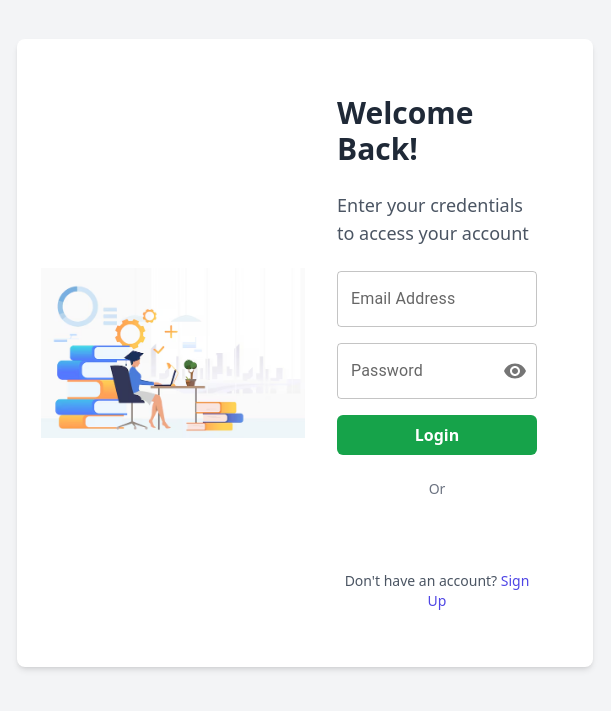
it: LoginForm Component › Form Validation › shows validation error for invalid email format
The width and height of the screenshot is (611, 711).
Type "invalid-email" into the field labelled "Email Address" at [437, 299], box left=337, top=271, right=537, bottom=327
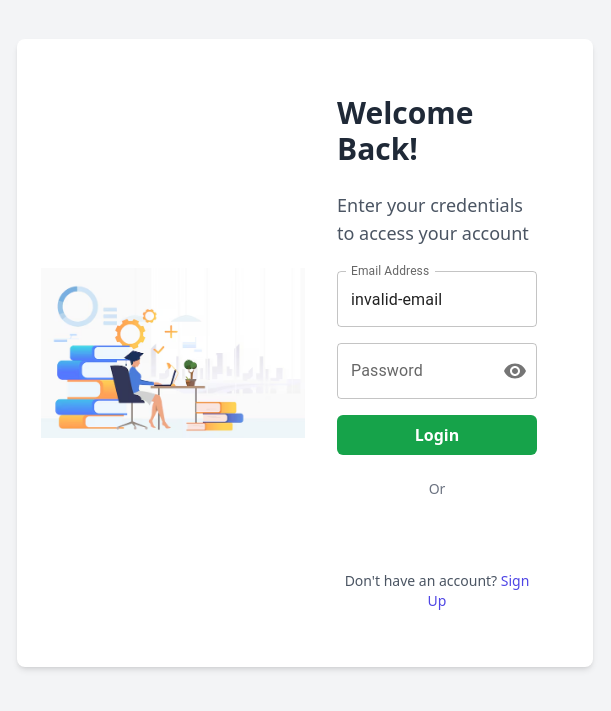
Click the button "Login" at [437, 435], box left=337, top=415, right=537, bottom=455
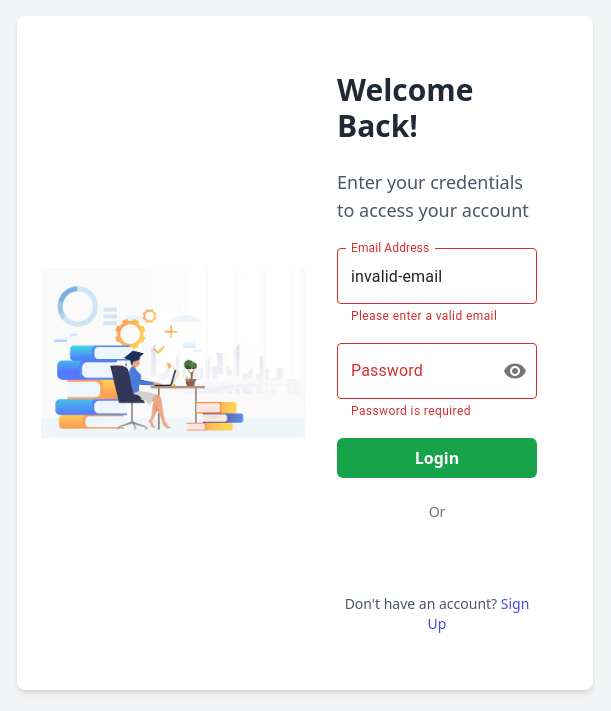
Check: the text "Please enter a valid email" is shown, box left=351, top=307, right=523, bottom=327
